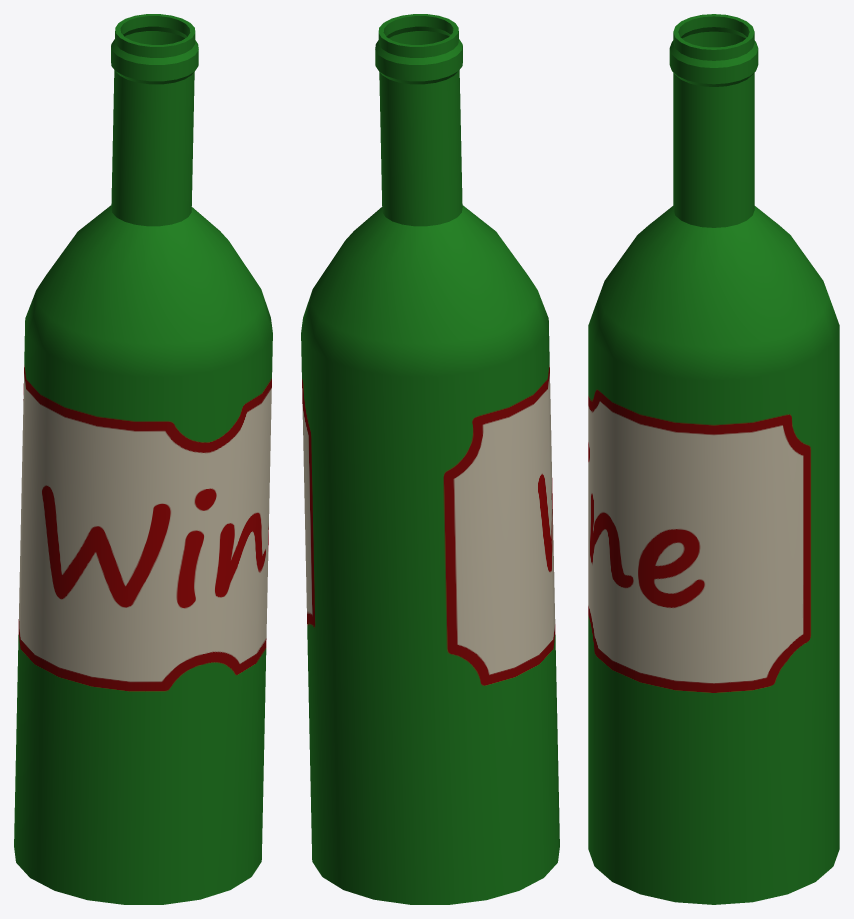
The model's file is Bottle.fbx.
The picture shows the model from 3 angles, left to right: view 1: azimuth 30°, elevation 25°; view 2: azimuth 150°, elevation 25°; view 3: azimuth 270°, elevation 25°; orthographic projection.
Visible parts, largest first — view 1: Bottle; view 2: Bottle; view 3: Bottle.
Part boxes in pixels (bbox=[...]): Bottle: bbox=[14, 14, 272, 904]; Bottle: bbox=[301, 14, 559, 904]; Bottle: bbox=[588, 14, 839, 904].
Bounding box in the file's own units: 0.4265 × 1.48 × 0.4055.
Materials: 1 (1 with a texture image).
